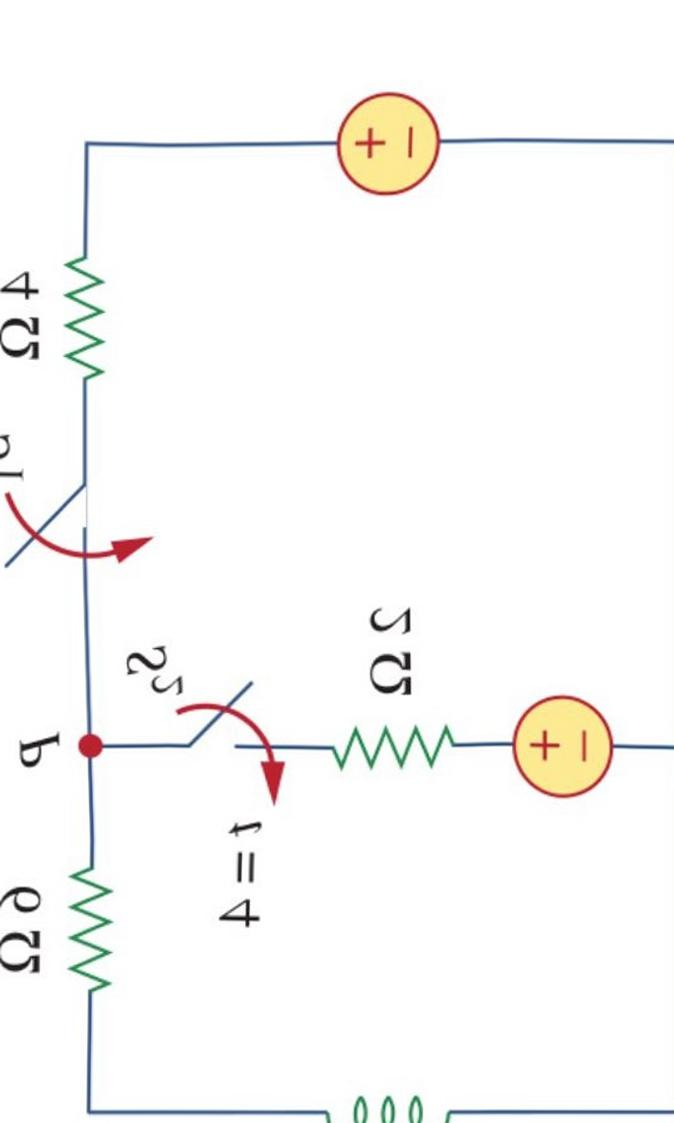Battery: (479, 657, 646, 842), (303, 67, 470, 228)
